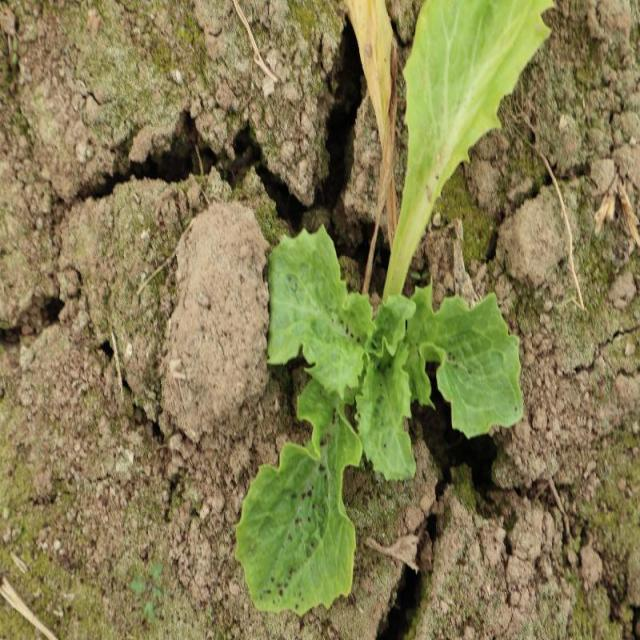crop: (234, 228, 528, 617), (380, 2, 558, 300)
